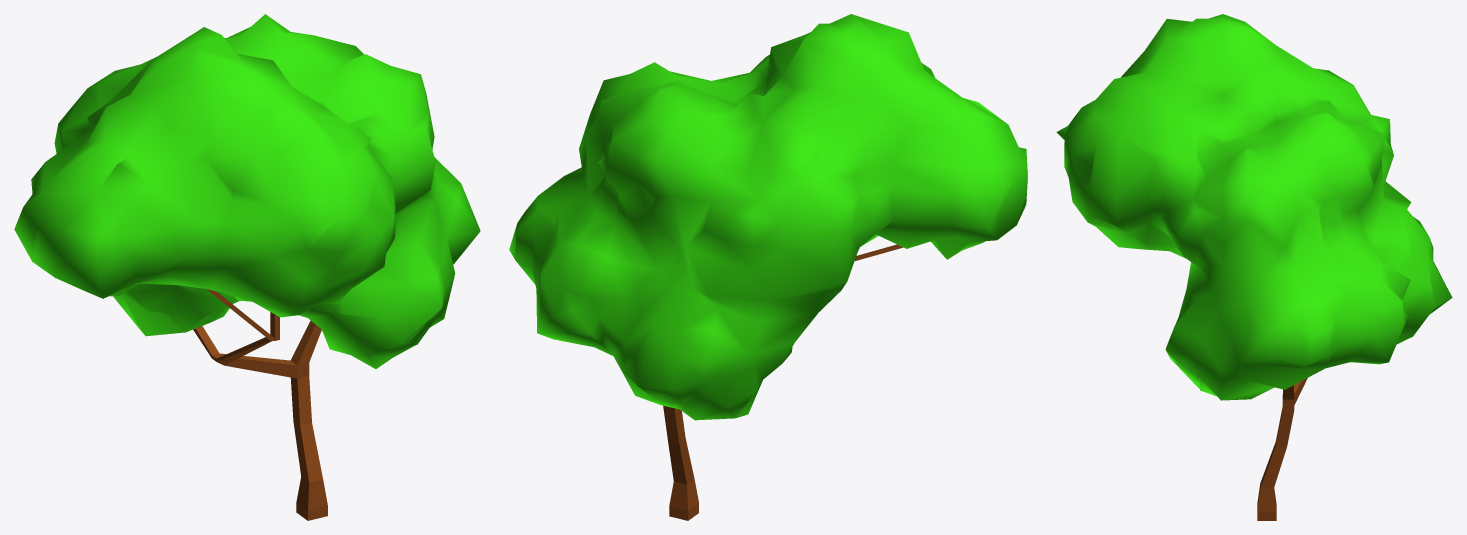
Rendered from SM_MangoTree_001_NoMango.fbx.
3 renders of one model, left to right at view 1: azimuth 30°, elevation 25°; view 2: azimuth 150°, elevation 25°; view 3: azimuth 270°, elevation 25°, orthographic. The views are drawn at different scales.
Visible parts, largest first — view 1: MangoTree_01; view 2: MangoTree_01; view 3: MangoTree_01.
Part boxes in pixels (x1,y1,x2,y2): MangoTree_01: (14,14,480,520); MangoTree_01: (509,14,1027,520); MangoTree_01: (1056,14,1452,520).
Bounding box in the file's own units: 261 × 278 × 226.
